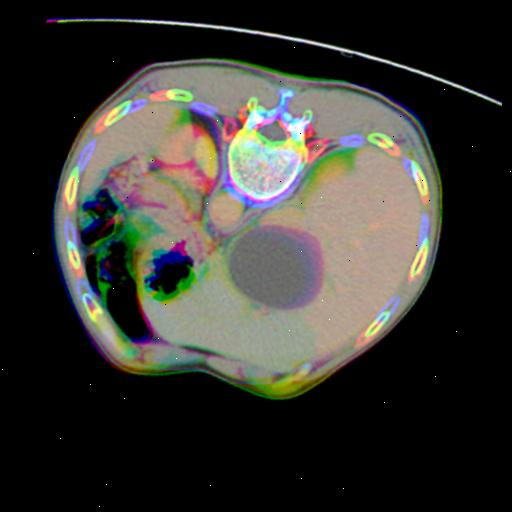Cyst: (235, 225, 328, 309)
